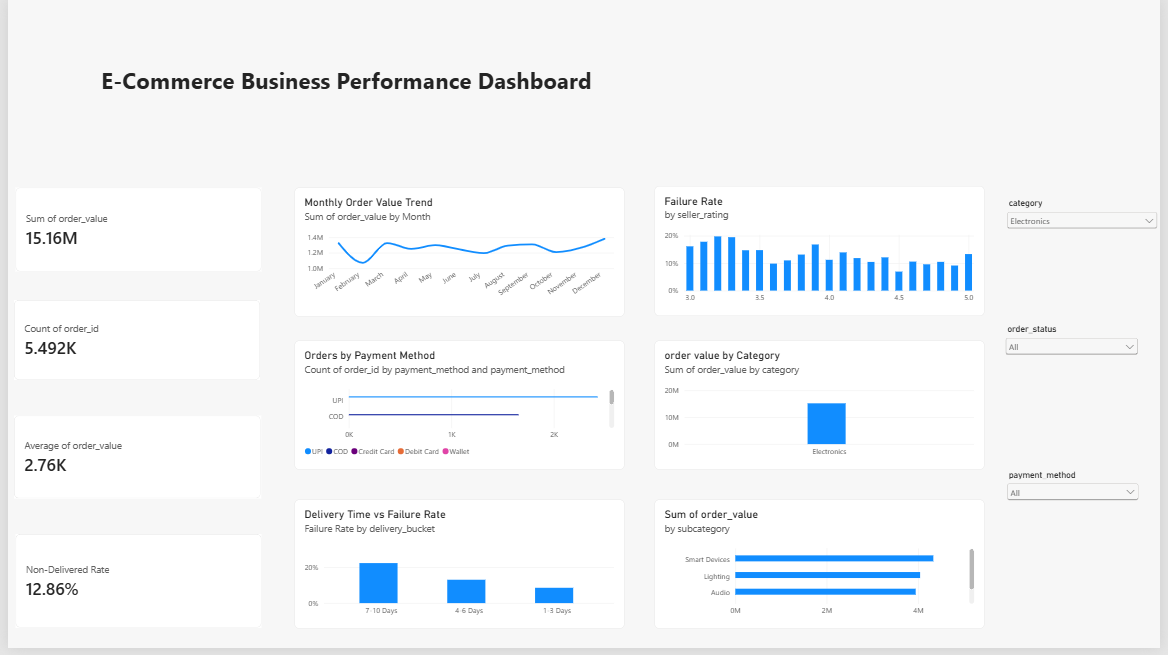

This screenshot's page, from the dashboard's own definition file:
{"tool":"powerbi","page":{"name":"Page 1","canvas":[1920,1080],"ordinal":0},"visuals":[{"type":"cardVisual","fields":{"Data":["Sum(orders (1).order_value)"]},"box":[13.3,313.3,410,140],"z":0},{"type":"cardVisual","fields":{"Data":["CountNonNull(orders (1).order_id)"]},"box":[10,500,410,133.3],"z":1},{"type":"cardVisual","fields":{"Data":["Avg(orders (1).order_value)"]},"box":[10,693.3,411.7,138.3],"z":2},{"type":"cardVisual","fields":{"Data":["orders (1).Non-Delivered Rate"]},"box":[13.3,890,410,156.7],"z":3},{"type":"clusteredColumnChart","title":" order value by Category","fields":{"Category":["products.category"],"Y":["Sum(orders (1).order_value)"]},"box":[1076.7,566.7,550,215],"z":4},{"type":"lineChart","title":"Monthly Order Value Trend","fields":{"Category":["orders (1).order_date.Variation.Date Hierarchy.Month"],"Y":["Sum(orders (1).order_value)"]},"box":[476.7,313.3,550,215],"z":5},{"type":"clusteredBarChart","title":"Orders by Payment Method","fields":{"Category":["orders (1).payment_method"],"Series":["orders (1).payment_method"],"Y":["CountNonNull(orders (1).order_id)"]},"box":[476.7,566.7,550,215],"z":6},{"type":"clusteredColumnChart","title":"Delivery Time vs Failure Rate","fields":{"Category":["orders (1).delivery_bucket"],"Y":["orders (1).Failure Rate"]},"box":[476.7,833.3,550,215],"z":7},{"type":"clusteredColumnChart","fields":{"Category":["orders (1).seller_rating"],"Y":["orders (1).Failure Rate"]},"box":[1076.7,310,550,216.7],"z":8},{"type":"clusteredBarChart","fields":{"Category":["products.subcategory"],"Y":["Sum(orders (1).order_value)"]},"box":[1076.7,833.3,550,215],"z":9},{"type":"slicer","fields":{"Values":["products.category"]},"box":[1660,330,260,180],"z":10},{"type":"slicer","fields":{"Values":["orders (1).order_status"]},"box":[1656.7,540,230,213.3],"z":11},{"type":"slicer","fields":{"Values":["orders (1).payment_method"]},"box":[1660,783.3,229,215],"z":12},{"type":"textbox","box":[55,108.3,1018.3,83.3],"z":13}]}

Visuals, with their boxes in screenshot pixels (x1, y1, x2, y2), scaled from the page's 1920x1080 canvas onto the 1168x655 screenshot:
cardVisual - Sum(orders (1).order_value): (left=8, top=190, right=258, bottom=275)
cardVisual - CountNonNull(orders (1).order_id): (left=6, top=303, right=255, bottom=384)
cardVisual - Avg(orders (1).order_value): (left=6, top=420, right=257, bottom=504)
cardVisual - orders (1).Non-Delivered Rate: (left=8, top=540, right=258, bottom=635)
" order value by Category" clusteredColumnChart: (left=655, top=344, right=990, bottom=474)
"Monthly Order Value Trend" lineChart: (left=290, top=190, right=625, bottom=320)
"Orders by Payment Method" clusteredBarChart: (left=290, top=344, right=625, bottom=474)
"Delivery Time vs Failure Rate" clusteredColumnChart: (left=290, top=505, right=625, bottom=636)
clusteredColumnChart - orders (1).seller_rating x orders (1).Failure Rate: (left=655, top=188, right=990, bottom=319)
clusteredBarChart - products.subcategory x Sum(orders (1).order_value): (left=655, top=505, right=990, bottom=636)
slicer - products.category: (left=1010, top=200, right=1167, bottom=309)
slicer - orders (1).order_status: (left=1008, top=328, right=1148, bottom=457)
slicer - orders (1).payment_method: (left=1010, top=475, right=1149, bottom=605)
textbox: (left=33, top=66, right=653, bottom=116)
